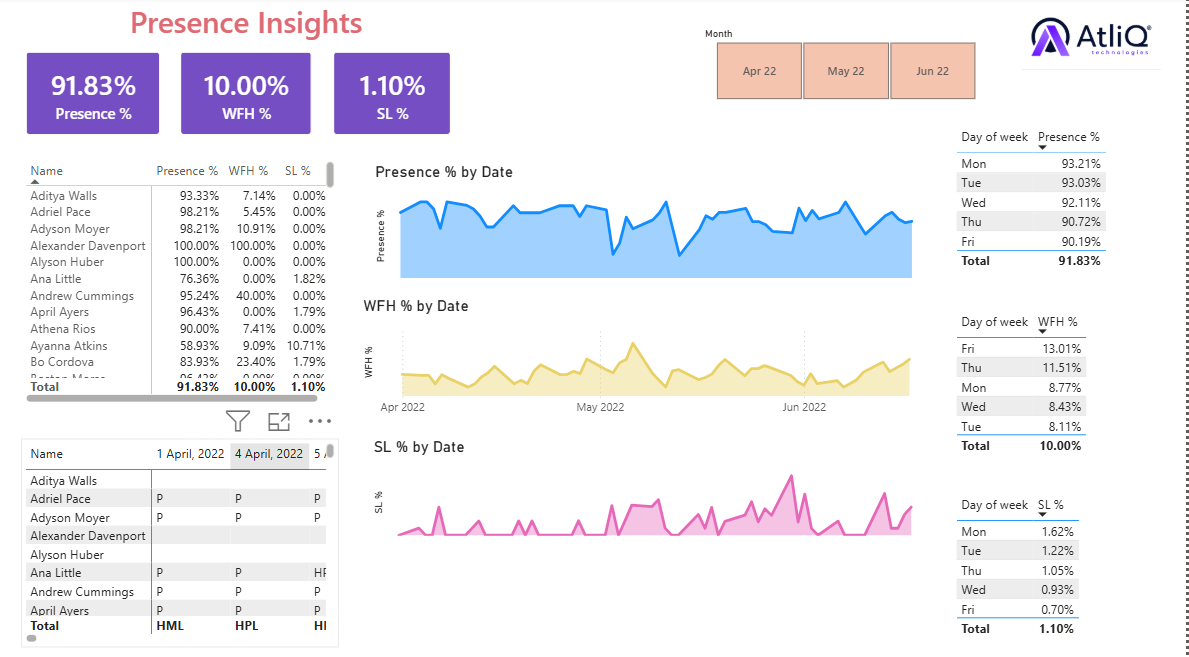

This screenshot's page, from the dashboard's own definition file:
{"tool":"powerbi","page":{"name":"Page 1","canvas":[1280,720],"ordinal":0},"visuals":[{"type":"card","fields":{"Values":["IMP Measures.Presence %"]},"box":[0,99.6,174.6,128.4],"z":0},{"type":"slicer","fields":{"Values":["Final Data.Month"]},"box":[859.9,15.9,365,80.8],"z":1000},{"type":"card","fields":{"Values":["IMP Measures.WFH %"]},"box":[157.7,89.3,173.6,150.4],"z":2000},{"type":"card","fields":{"Values":["IMP Measures.SL %"]},"box":[331.4,90.5,150.4,150.4],"z":3000},{"type":"tableEx","fields":{"Values":["Final Data.Name","IMP Measures.Presence %","IMP Measures.WFH %"]},"box":[23.2,267.8,337.5,196.9],"z":4000},{"type":"textbox","box":[39.1,50.1,420.7,48.9],"z":5000},{"type":"pivotTable","fields":{"Columns":["Final Data.Date"],"Rows":["Final Data.Name"],"Values":["Min(Final Data.Value)"]},"box":[39.1,508.7,321.6,149.2],"z":6000},{"type":"stackedAreaChart","fields":{"Category":["Final Data.Date"],"Y":["IMP Measures.Presence %"]},"box":[475.7,117.4,424.3,150.4],"z":7000},{"type":"stackedAreaChart","fields":{"Category":["Final Data.Date"],"Y":["IMP Measures.WFH %"]},"box":[475.7,297.1,442.7,167.5],"z":8000},{"type":"stackedAreaChart","fields":{"Category":["Final Data.Date"],"Y":["IMP Measures.SL %"]},"box":[491.6,508.7,442.7,163.9],"z":9000},{"type":"tableEx","fields":{"Values":["Final Data.Day Of Week","IMP Measures.Presence %"]},"box":[1014.3,135.6,226.5,161.6],"z":10000},{"type":"tableEx","fields":{"Values":["Final Data.Day Of Week","IMP Measures.WFH %"]},"box":[1013.7,316.7,227.4,161.4],"z":11000},{"type":"tableEx","fields":{"Values":["Final Data.Day Of Week","IMP Measures.SL %"]},"box":[1023.5,523.4,227.4,161.4],"z":12000}]}

Visuals, with their boxes in screenshot pixels (x1, y1, x2, y2), scaled from the page's 1280x720 canvas onto the 1189x657 screenshot:
card - IMP Measures.Presence %: Rect(0, 91, 162, 208)
slicer - Final Data.Month: Rect(799, 15, 1138, 88)
card - IMP Measures.WFH %: Rect(146, 81, 308, 219)
card - IMP Measures.SL %: Rect(308, 83, 448, 220)
tableEx - Final Data.Name x IMP Measures.Presence %: Rect(22, 244, 335, 424)
textbox: Rect(36, 46, 427, 90)
pivotTable - Final Data.Date x Final Data.Name: Rect(36, 464, 335, 600)
stackedAreaChart - Final Data.Date x IMP Measures.Presence %: Rect(442, 107, 836, 244)
stackedAreaChart - Final Data.Date x IMP Measures.WFH %: Rect(442, 271, 853, 424)
stackedAreaChart - Final Data.Date x IMP Measures.SL %: Rect(457, 464, 868, 614)
tableEx - Final Data.Day Of Week x IMP Measures.Presence %: Rect(942, 124, 1153, 271)
tableEx - Final Data.Day Of Week x IMP Measures.WFH %: Rect(942, 289, 1153, 436)
tableEx - Final Data.Day Of Week x IMP Measures.SL %: Rect(951, 478, 1162, 625)
